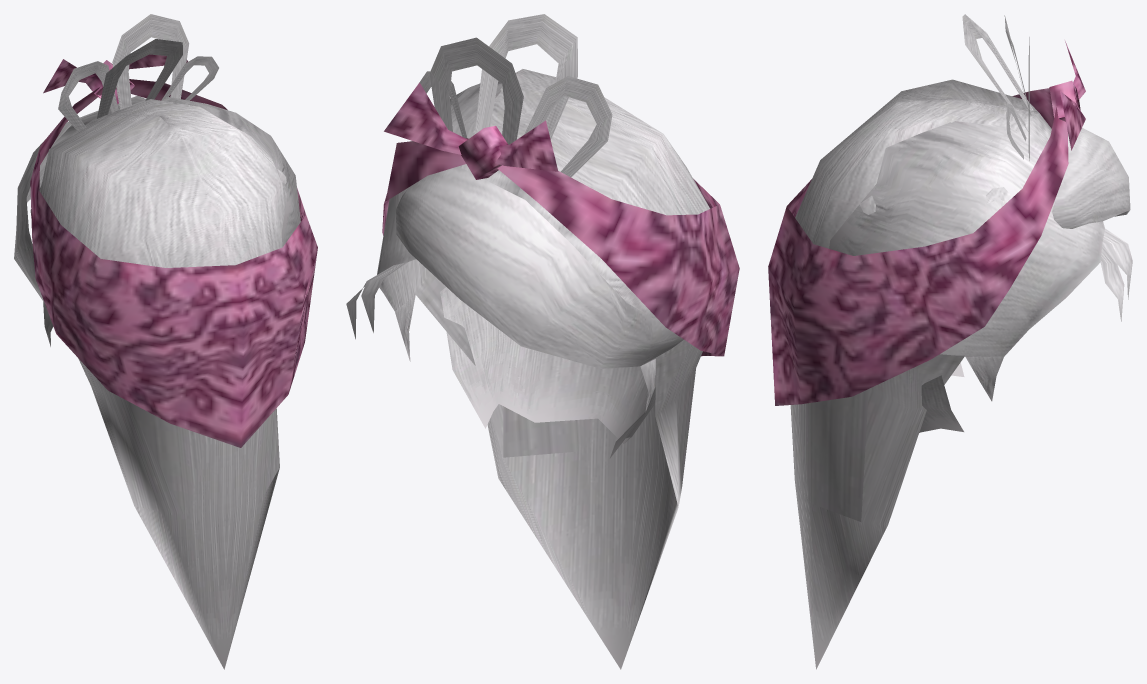
File: Wizard female hair 63.glb
3 views of the same model, side by side, from view 1: azimuth 30°, elevation 25°; view 2: azimuth 150°, elevation 25°; view 3: azimuth 270°, elevation 25° (orthographic). The views are drawn at different scales.
Visible parts, largest first — view 1: 法师女头发63_0, 法师女头发63_2; view 2: 法师女头发63_0, 法师女头发63_2; view 3: 法师女头发63_0, 法师女头发63_2.
Part boxes in pixels (box(x1,y1,x2,y2)): 法师女头发63_0: box(14, 14, 300, 669); 法师女头发63_2: box(30, 54, 317, 447); 法师女头发63_0: box(346, 14, 710, 669); 法师女头发63_2: box(382, 82, 739, 356); 法师女头发63_0: box(790, 14, 1132, 669); 法师女头发63_2: box(768, 41, 1085, 405).
Bounding box in the file's own units: 0.1665 × 0.3829 × 0.1943.
Materials: 2 (2 with a texture image).
